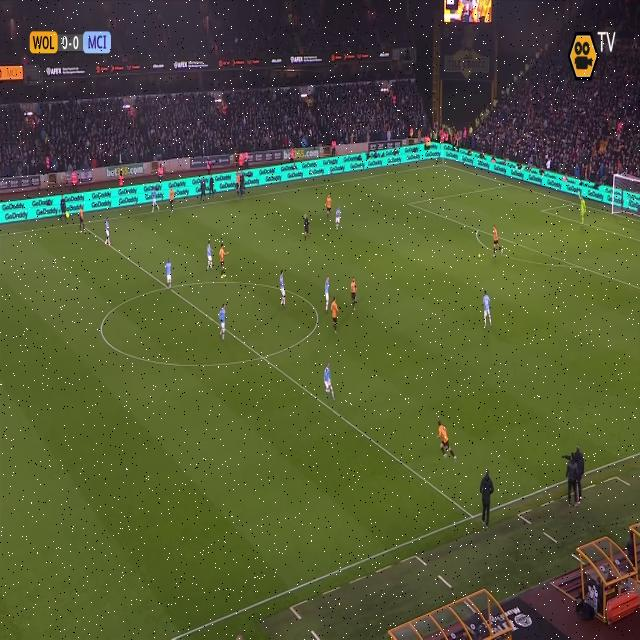GoalKeeper: (579, 195, 588, 224)
TEAM 1: (437, 420, 455, 460), (328, 295, 340, 334), (490, 223, 502, 256), (219, 245, 229, 280), (348, 279, 356, 311), (323, 196, 332, 224), (79, 208, 86, 236)
TEAM 2: (482, 288, 494, 327), (321, 269, 331, 315), (322, 362, 334, 399), (218, 301, 229, 341), (278, 272, 286, 309), (204, 245, 213, 272), (164, 258, 172, 287), (103, 218, 111, 246), (334, 208, 342, 231), (476, 250, 483, 260)
